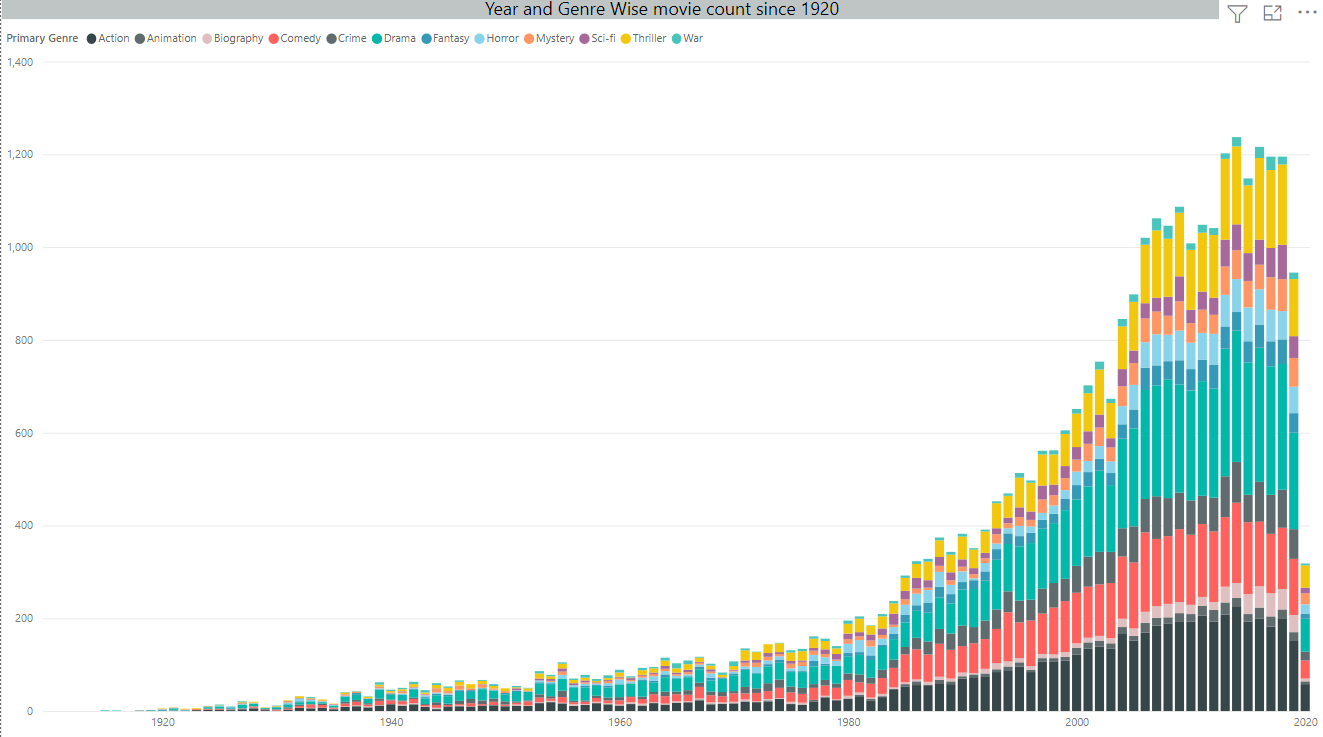

The page's visual inventory and layout, read from the dashboard file:
{"tool":"powerbi","page":{"name":"Year and Genre Wise movie count since 1920","canvas":[1280,720],"ordinal":3},"visuals":[{"type":"columnChart","title":"Year and Genre Wise movie count since 1920","fields":{"Category":["R-Cleaned-File.Release.Year"],"Y":["Count(R-Cleaned-File.Title)"],"Series":["R-Cleaned-File.Primary Genre"]},"box":[0,0,1280,720],"z":0}]}

Visuals, with their boxes on the page's 1280x720 design canvas (x1, y1, x2, y2). These are canvas units, not pixel positions in the 1323x737 screenshot, which may show the page scaled, cropped or inside an application window:
"Year and Genre Wise movie count since 1920" columnChart: box=[0, 0, 1280, 720]
